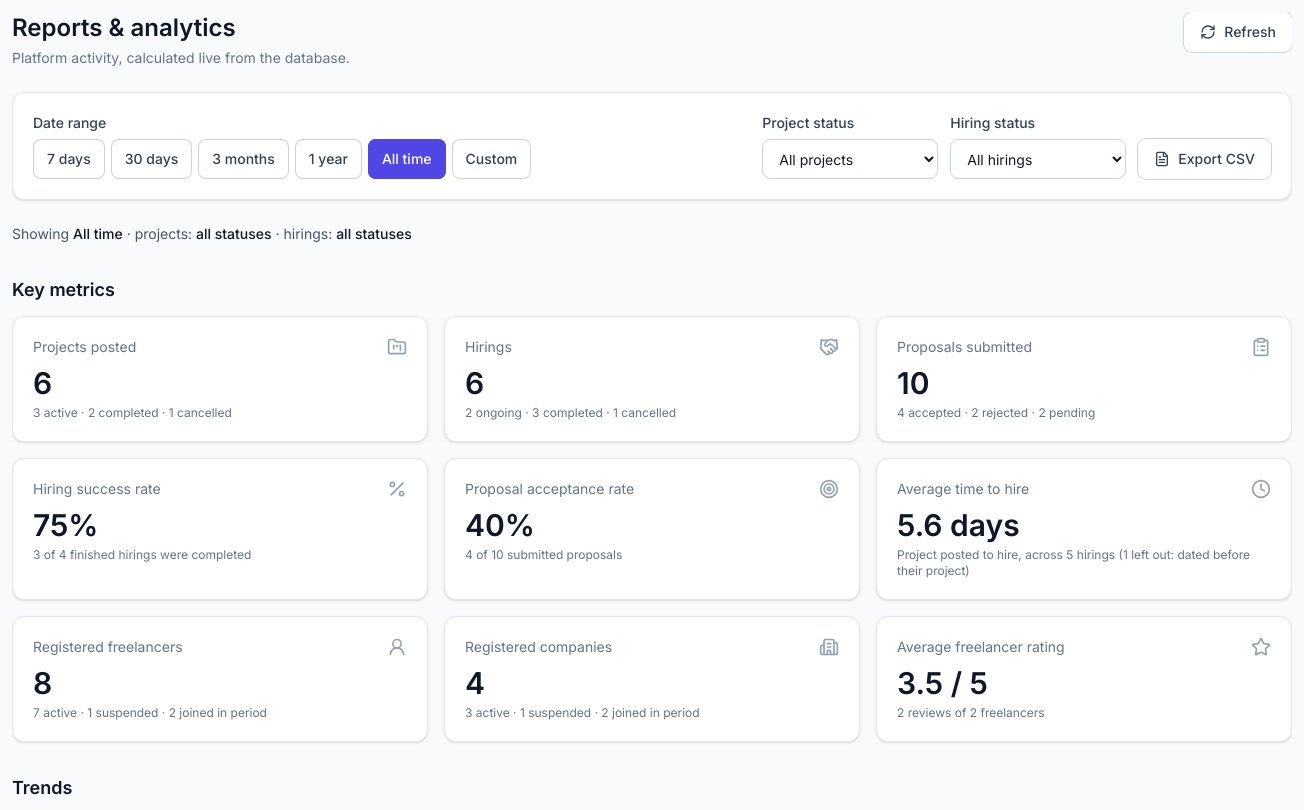
Test: the page › when filters are changed quickly, only the newest answer is ever shown (a slow, older answer is ignored)
Expected: the heading "Key metrics" is shown, left=12, top=279, right=115, bottom=300
Click the button "7 days": click(69, 159) left=33, top=139, right=105, bottom=179
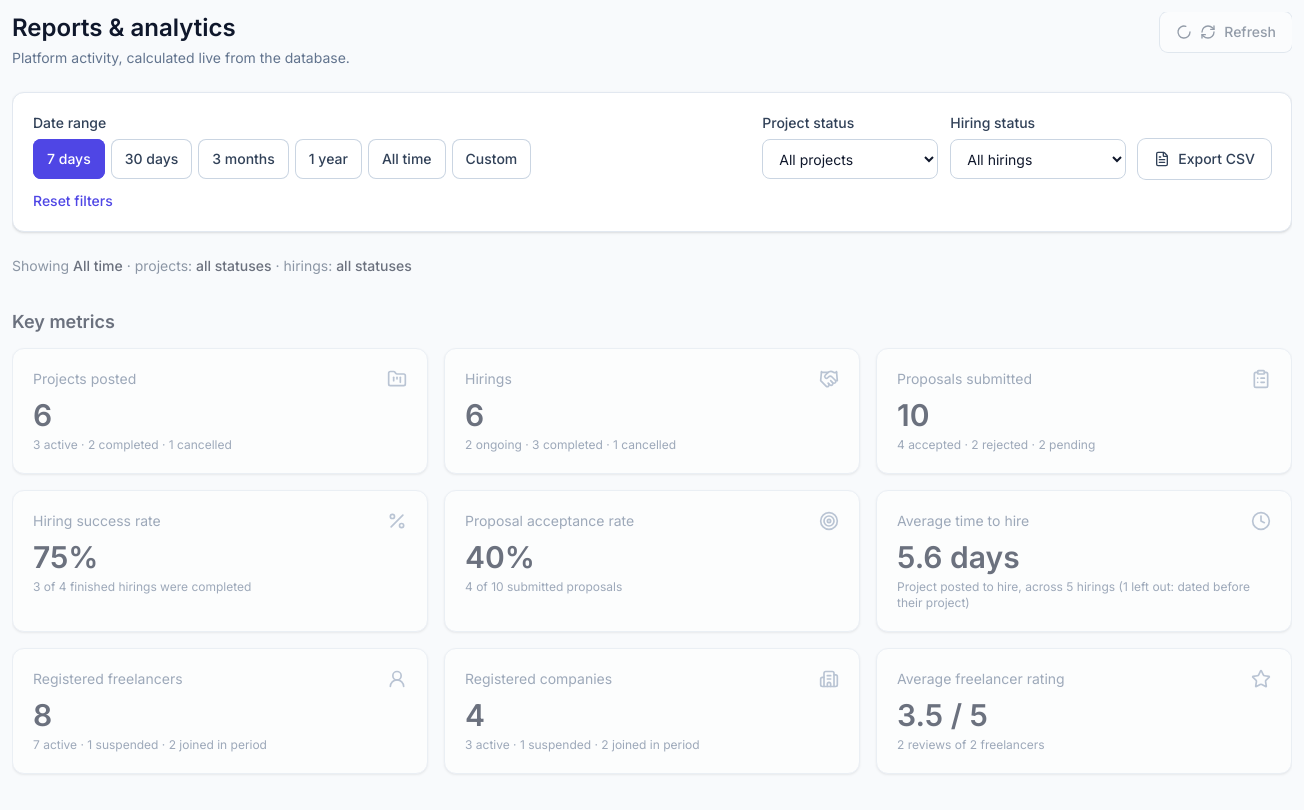
Click the button "30 days": click(151, 159) left=111, top=139, right=192, bottom=179
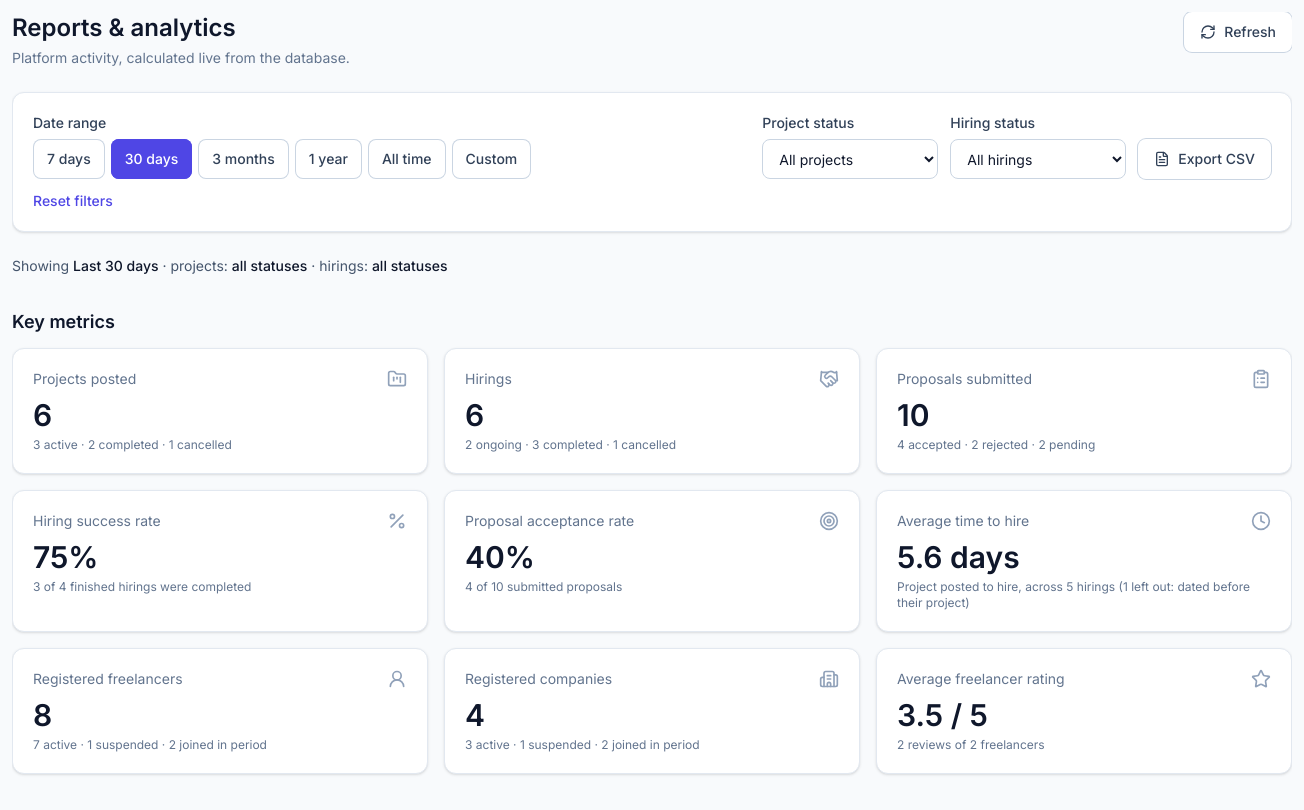
Expected: the element with test id "applied-filters" shows "Last 30 days", left=73, top=257, right=158, bottom=274
